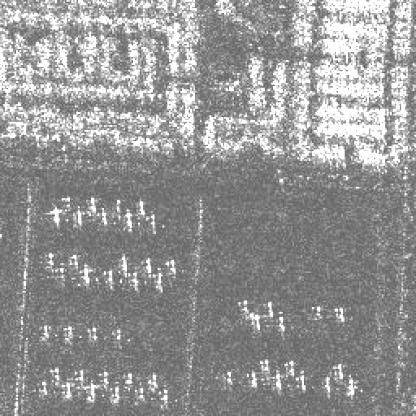airplane: (320, 374, 335, 396), (60, 195, 75, 215), (146, 372, 161, 392), (47, 206, 63, 224), (343, 375, 357, 395), (83, 325, 99, 341), (294, 372, 310, 388), (146, 211, 160, 229), (152, 268, 166, 286), (107, 327, 125, 341), (96, 369, 110, 387), (249, 314, 263, 332), (308, 299, 322, 317), (95, 210, 110, 226), (120, 213, 135, 229), (65, 252, 80, 268), (107, 387, 122, 403), (234, 299, 250, 314), (332, 359, 344, 379), (53, 263, 66, 281), (117, 255, 130, 273), (273, 315, 286, 333), (123, 369, 135, 388), (262, 301, 274, 320), (36, 380, 50, 396), (332, 306, 346, 322), (135, 198, 146, 218), (72, 208, 84, 226), (86, 195, 98, 213), (112, 198, 124, 216), (140, 256, 152, 274), (72, 367, 86, 382), (78, 262, 89, 281), (100, 268, 113, 284), (60, 382, 73, 398), (83, 384, 96, 400), (135, 384, 148, 400), (61, 324, 72, 342), (162, 258, 176, 272), (42, 252, 54, 268), (47, 368, 63, 380), (284, 359, 296, 375), (245, 371, 258, 385), (271, 372, 283, 387), (39, 322, 50, 338), (128, 270, 138, 286), (258, 356, 270, 369), (224, 367, 234, 382), (158, 388, 168, 402)
